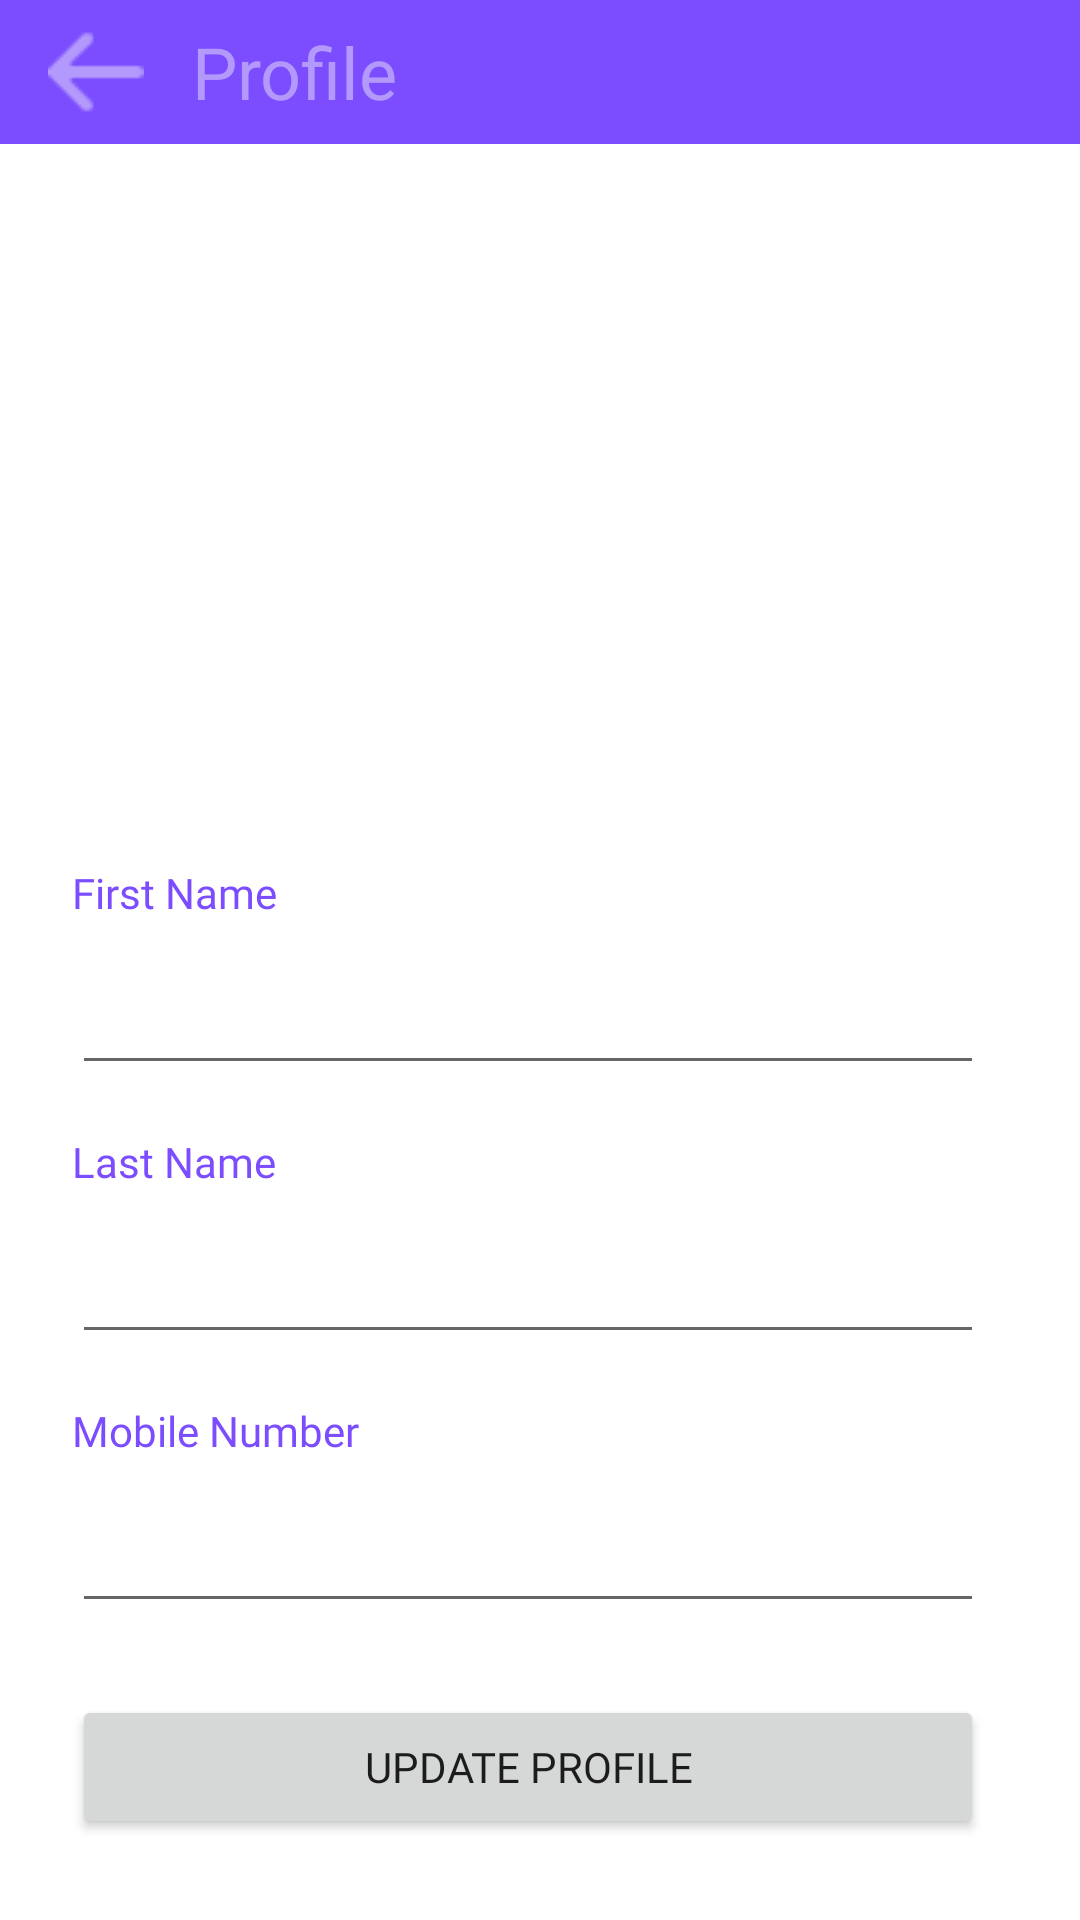

Named icons in this screenshot (1080px×1920px) and their centers, (x=x, y=y):
back: (x=96, y=72)
